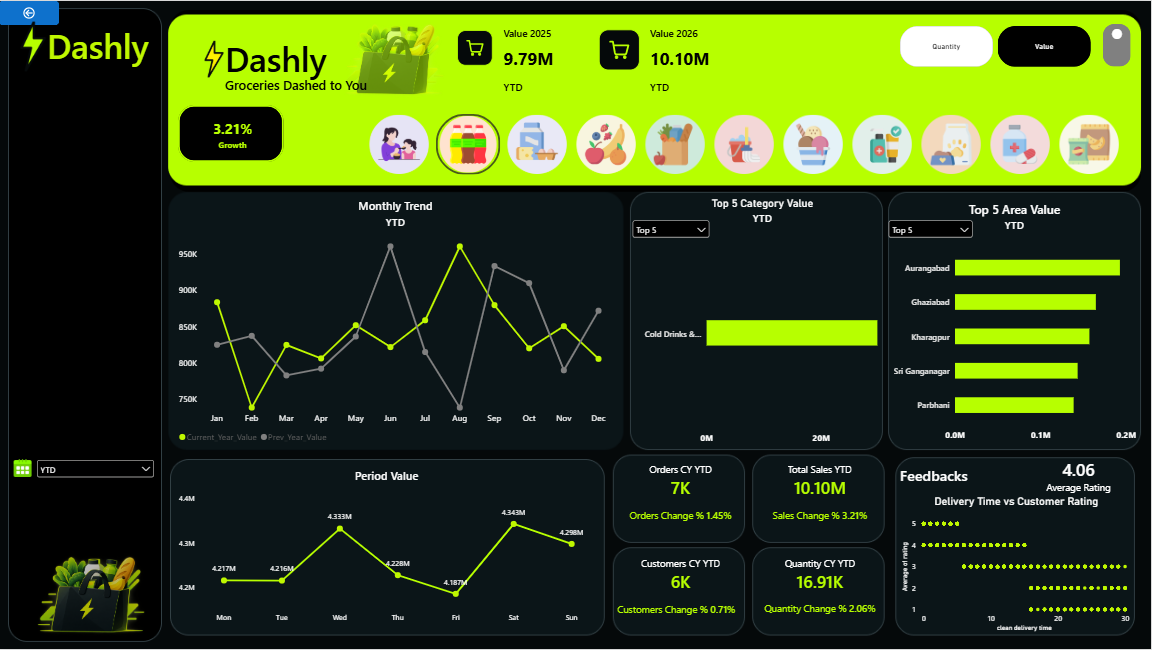

What the dashboard file says about the page in this screenshot:
{"tool":"powerbi","page":{"name":"Dashly","canvas":[1920,1080],"ordinal":0},"visuals":[{"type":"cardVisual","fields":{"Data":["Sale_Measures.Prev_Year_Value","Sale_Measures.Current_Year_Value"]},"box":[825,43.3,481.8,145],"z":0},{"type":"advancedSlicerVisual","fields":{"Values":["MasterTable.category"]},"box":[613.3,188.3,1265,101.7],"z":1000},{"type":"advancedSlicerVisual","fields":{"Values":["AUTO_DATE.Options"]},"box":[1840,38.3,46.7,71.7],"z":2000},{"type":"image","box":[988.3,45,91.5,73.4],"z":3000},{"type":"actionButton","box":[0,0,100,40],"z":4000},{"type":"image","box":[761.7,42.3,62.5,73.4],"z":5000},{"type":"cardVisual","fields":{"Data":["Sale_Measures.CY_PY_GROWTH"]},"box":[298.3,173.3,176.7,95],"z":6000},{"type":"clusteredBarChart","fields":{"Category":["MasterTable.area"],"Y":["Sale_Measures.topN_Area_by_Value"]},"box":[1473.3,318.3,438.3,436.7],"z":7000},{"type":"lineChart","title":"Monthly Trend","fields":{"Category":["Calendar.Month"],"Y":["Sale_Measures.Current_Year_Value"],"Y2":["Sale_Measures.Prev_Year_Value"]},"box":[283.3,315,755,441.7],"z":8000},{"type":"slicer","fields":{"Values":["Rank_table.Rank"]},"box":[1461.7,346.7,181.7,53.3],"z":9000},{"type":"clusteredBarChart","fields":{"Category":["MasterTable.category"],"Y":["Sale_Measures.TopN_Category_by_Value"]},"box":[1048.3,311.7,448.3,448.3],"z":10000},{"type":"slicer","fields":{"Values":["Rank_table.Rank"]},"box":[1035,346.7,170,65],"z":11000},{"type":"image","box":[328.3,38.3,61.7,116.7],"z":12000},{"type":"image","box":[536.7,20,241.7,153.3],"z":13000},{"type":"textbox","box":[376.7,58.3,331.7,118.3],"z":14000},{"type":"textbox","box":[376.7,125,407.1,50],"z":15000},{"type":"advancedSlicerVisual","fields":{"Values":["Value_Options.Value_Tyoe"]},"box":[1501.7,41.7,318.3,68.3],"z":17000},{"type":"textbox","box":[80,36.7,186.7,88.3],"z":18000},{"type":"slicer","fields":{"Values":["Time_Period.Options"]},"box":[58.3,760,205,48.3],"z":19000},{"type":"image","box":[16.7,28.3,83.3,95],"z":20000},{"type":"image","box":[24.3,897.1,258.3,183.3],"z":21000},{"type":"image","box":[23,764,31.7,30],"z":22000},{"type":"lineChart","title":"Period Value","fields":{"Category":["Calendar.Day"],"Y":["Sale_Measures.Period_Value"]},"box":[282.9,764.3,725.7,291.4],"z":23000},{"type":"cardVisual","fields":{"Data":["MasterTable.Orders CY YTD"]},"box":[1008.3,755,255,155],"z":24000},{"type":"cardVisual","fields":{"Data":["MasterTable.Sales CY YTD"]},"box":[1235,755,266.7,155],"z":25000},{"type":"cardVisual","fields":{"Data":["MasterTable.Quantity CY YTD"]},"box":[1235,911.7,266.7,153.3],"z":26000},{"type":"cardVisual","fields":{"Data":["MasterTable.Customers CY YTD"]},"box":[998.3,911.7,275,155],"z":27000},{"type":"textbox","box":[1501.2,760.4,226.7,78.3],"z":27002},{"type":"cardVisual","fields":{"Data":["MasterTable.AVG_rating"]},"box":[1720.4,760.4,158.3,63.3],"z":27003},{"type":"scatterChart","title":"Delivery Time vs Customer Rating","fields":{"Category":["MasterTable.order_id"],"X":["MasterTable.clean delivery time"],"Y":["Avg(MasterTable.rating)"]},"box":[1487.6,808.8,414.2,258.5],"z":27004}]}

Visuals, with their boxes on the page's 1920x1080 design canvas (x1, y1, x2, y2). These are canvas units, not pixel positions in the 1152x650 screenshot, which may show the page scaled, cropped or inside an application window:
cardVisual - Sale_Measures.Prev_Year_Value x Sale_Measures.Current_Year_Value: [x1=825, y1=43, x2=1307, y2=188]
advancedSlicerVisual - MasterTable.category: [x1=613, y1=188, x2=1878, y2=290]
advancedSlicerVisual - AUTO_DATE.Options: [x1=1840, y1=38, x2=1887, y2=110]
image: [x1=988, y1=45, x2=1080, y2=118]
actionButton: [x1=0, y1=0, x2=100, y2=40]
image: [x1=762, y1=42, x2=824, y2=116]
cardVisual - Sale_Measures.CY_PY_GROWTH: [x1=298, y1=173, x2=475, y2=268]
clusteredBarChart - MasterTable.area x Sale_Measures.topN_Area_by_Value: [x1=1473, y1=318, x2=1912, y2=755]
"Monthly Trend" lineChart: [x1=283, y1=315, x2=1038, y2=757]
slicer - Rank_table.Rank: [x1=1462, y1=347, x2=1643, y2=400]
clusteredBarChart - MasterTable.category x Sale_Measures.TopN_Category_by_Value: [x1=1048, y1=312, x2=1497, y2=760]
slicer - Rank_table.Rank: [x1=1035, y1=347, x2=1205, y2=412]
image: [x1=328, y1=38, x2=390, y2=155]
image: [x1=537, y1=20, x2=778, y2=173]
textbox: [x1=377, y1=58, x2=708, y2=177]
textbox: [x1=377, y1=125, x2=784, y2=175]
advancedSlicerVisual - Value_Options.Value_Tyoe: [x1=1502, y1=42, x2=1820, y2=110]
textbox: [x1=80, y1=37, x2=267, y2=125]
slicer - Time_Period.Options: [x1=58, y1=760, x2=263, y2=808]
image: [x1=17, y1=28, x2=100, y2=123]
image: [x1=24, y1=897, x2=283, y2=1080]
image: [x1=23, y1=764, x2=55, y2=794]
"Period Value" lineChart: [x1=283, y1=764, x2=1009, y2=1056]
cardVisual - MasterTable.Orders CY YTD: [x1=1008, y1=755, x2=1263, y2=910]
cardVisual - MasterTable.Sales CY YTD: [x1=1235, y1=755, x2=1502, y2=910]
cardVisual - MasterTable.Quantity CY YTD: [x1=1235, y1=912, x2=1502, y2=1065]
cardVisual - MasterTable.Customers CY YTD: [x1=998, y1=912, x2=1273, y2=1067]
textbox: [x1=1501, y1=760, x2=1728, y2=839]
cardVisual - MasterTable.AVG_rating: [x1=1720, y1=760, x2=1879, y2=824]
"Delivery Time vs Customer Rating" scatterChart: [x1=1488, y1=809, x2=1902, y2=1067]
